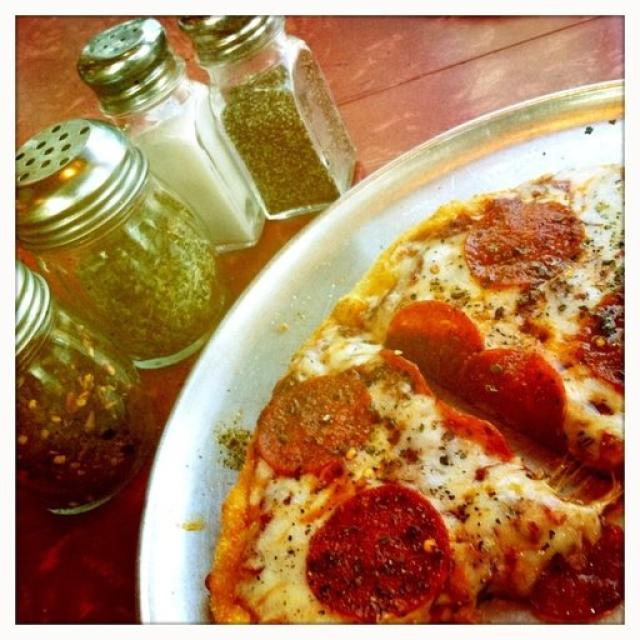Pepperoni: (375, 308, 572, 458), (310, 492, 452, 614), (266, 358, 368, 480), (468, 203, 579, 292), (569, 296, 640, 389), (580, 286, 627, 388)
Pizza: (208, 167, 628, 630)
